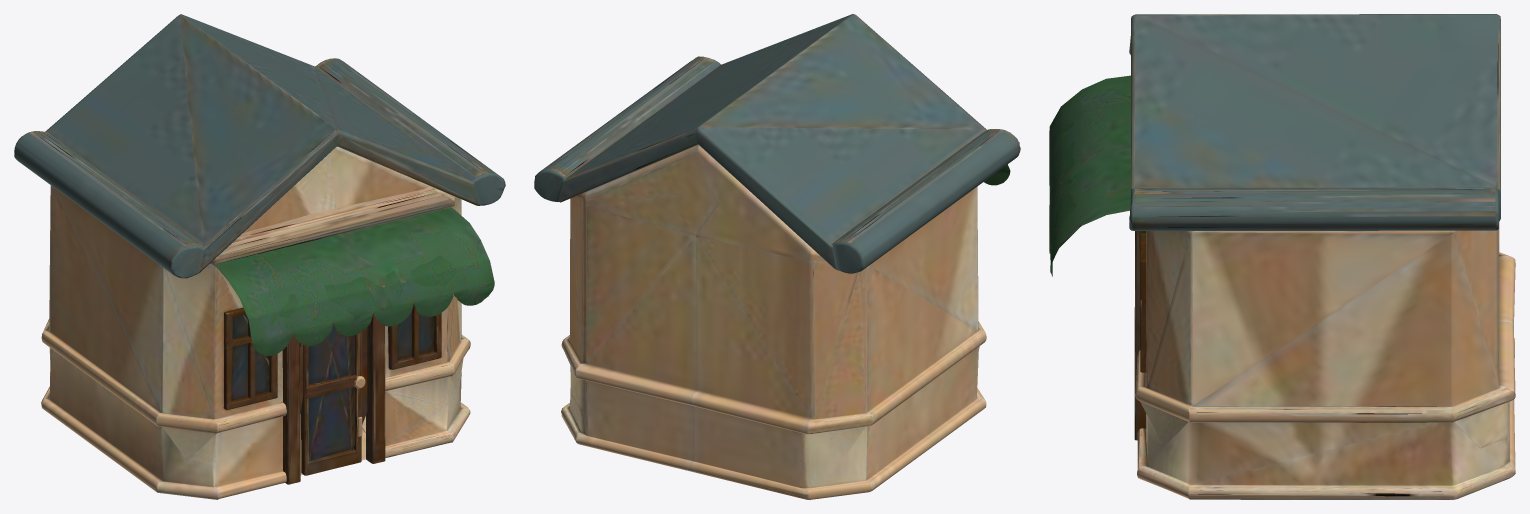
Rendered from 11-cafe.glb.
3 renders of one model, left to right at view 1: azimuth 30°, elevation 25°; view 2: azimuth 150°, elevation 25°; view 3: azimuth 270°, elevation 25°, orthographic. The views are drawn at different scales.
Visible parts, largest first — view 1: geometry_0; view 2: geometry_0; view 3: geometry_0.
Boxes of the visible parts, x1,y1,x2,y2 form: geometry_0: [14, 14, 505, 499]; geometry_0: [534, 14, 1020, 499]; geometry_0: [1049, 14, 1515, 499].
Size of the model in its own units: 0.9165 by 0.8989 by 0.9531.
Materials: 1 (1 with a texture image).
